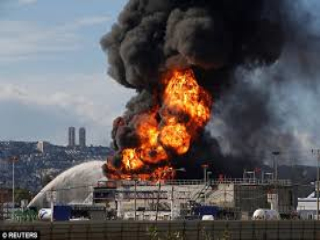smoke: (103, 4, 283, 181)
